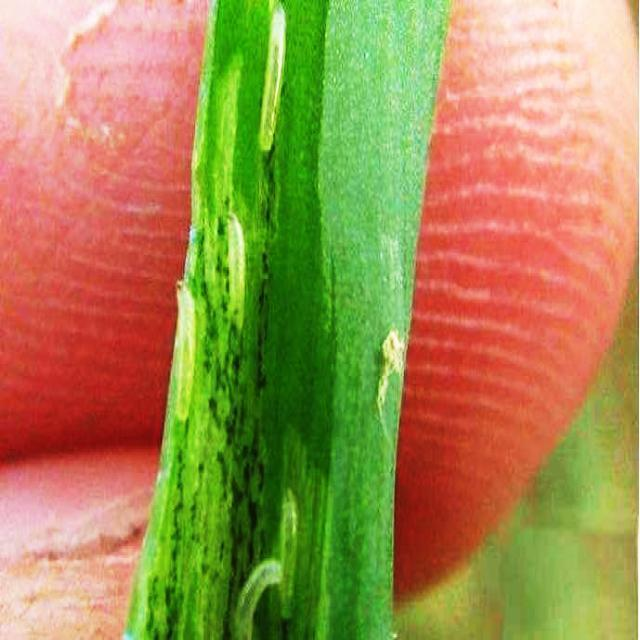whorl-maggot: (252, 0, 288, 161), (228, 552, 286, 640), (172, 280, 202, 426), (276, 482, 304, 620), (223, 201, 247, 343)
